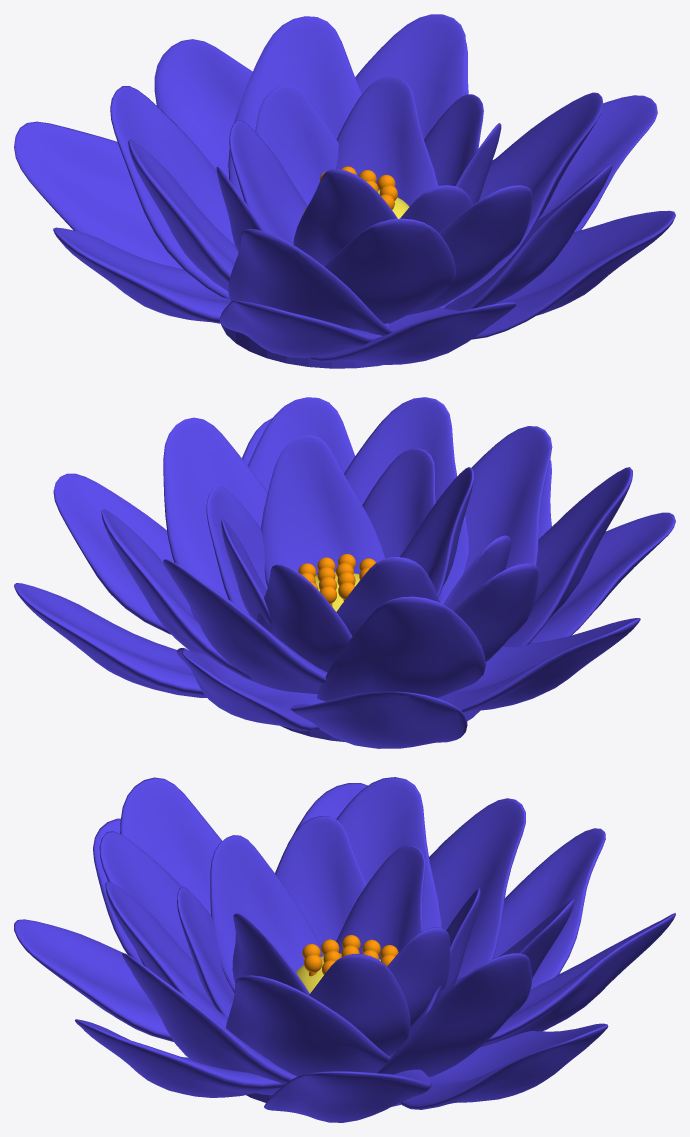
Rendered from lf-violet.gltf.
3 views of the same model, one above another, from view 1: azimuth 30°, elevation 25°; view 2: azimuth 150°, elevation 25°; view 3: azimuth 270°, elevation 25° (orthographic).
Parts seen in each view (by area): view 1: petal04, pollen; view 2: petal04, pollen; view 3: petal04, pollen.
Part boxes in pixels (x1,y1,x2,y2): petal04: (14, 14, 675, 368); pollen: (320, 166, 397, 209); petal04: (14, 397, 675, 748); pollen: (298, 554, 375, 606); petal04: (14, 777, 675, 1122); pollen: (302, 935, 398, 976).
Size of the model in its own units: 1.19 by 0.3949 by 1.16.
